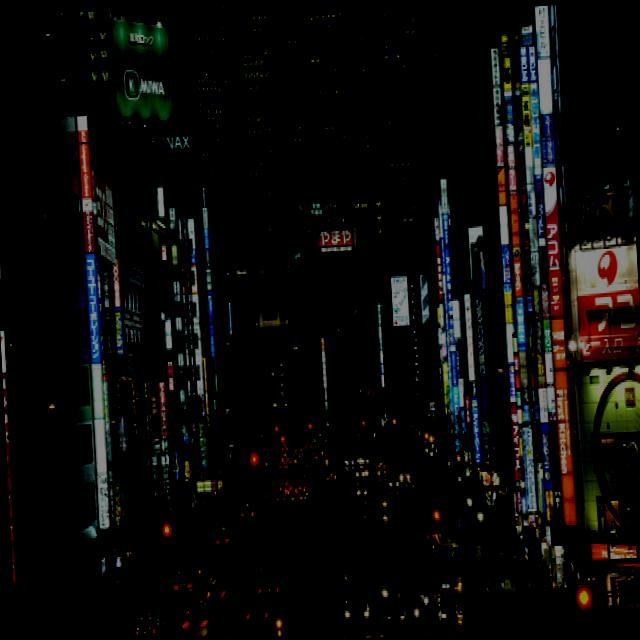Vehicle: (213, 345, 469, 640), (422, 530, 464, 594), (180, 600, 214, 640), (342, 590, 372, 634), (382, 594, 409, 632), (133, 610, 167, 640), (379, 574, 404, 604), (205, 578, 232, 605), (258, 561, 278, 595), (172, 570, 199, 595), (342, 570, 366, 592), (214, 528, 236, 550), (240, 504, 256, 521), (356, 484, 368, 501), (388, 476, 400, 492)
